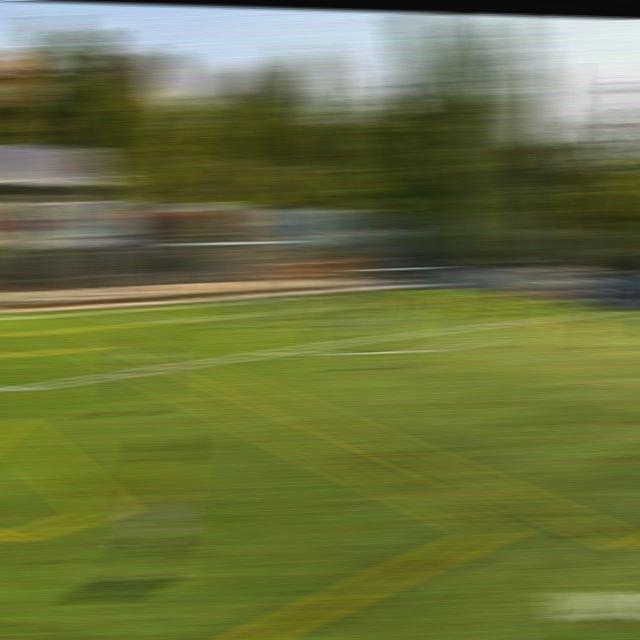bigarea_bottom_inner: (0, 377, 27, 404)
bigarea_top_inner: (568, 306, 605, 322)
bigarea_top_outter: (407, 283, 440, 298)
bottom_arc_area_intersection: (267, 336, 309, 367)
smallarea_bottom_inner: (130, 316, 160, 330)
smallarea_bottom_outter: (92, 303, 128, 320)
smallarea_top_outter: (313, 290, 342, 304)
